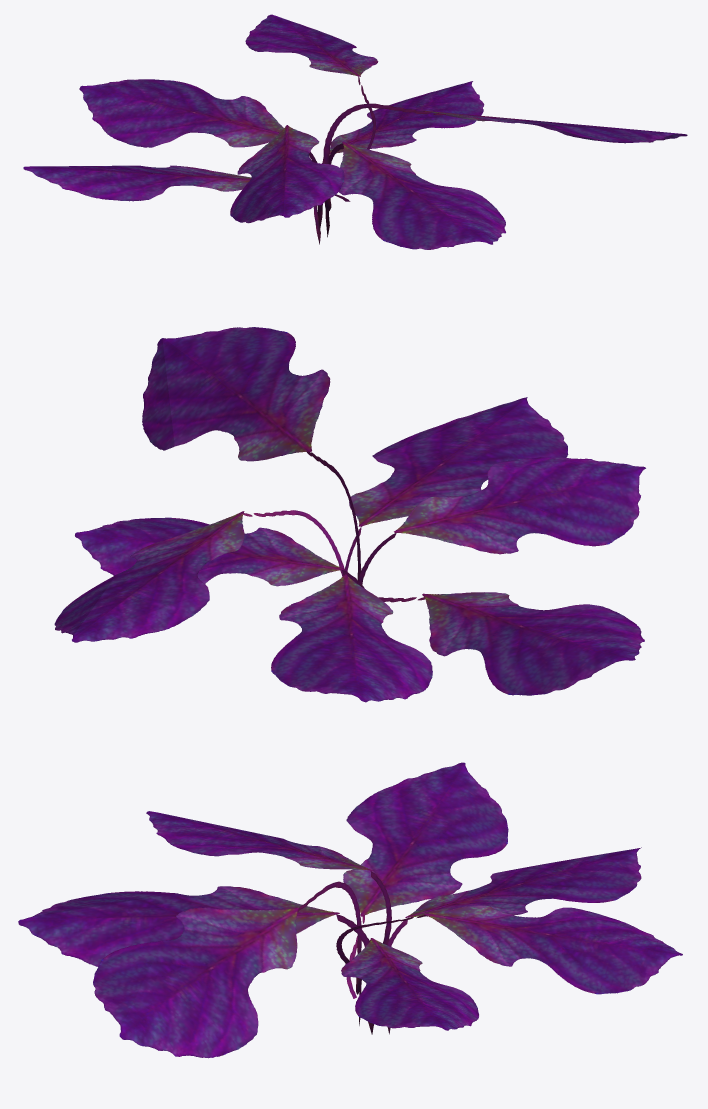
File: Row Root C5.fbx
The picture shows the model from 3 angles, top to bottom: view 1: azimuth 30°, elevation 25°; view 2: azimuth 150°, elevation 25°; view 3: azimuth 270°, elevation 25°; orthographic projection. The views are drawn at different scales.
Visible parts, largest first — view 1: Row Root C5; view 2: Row Root C5; view 3: Row Root C5.
Part boxes in pixels (left/top/right/bottom): Row Root C5: left=23, top=14, right=687, bottom=249; Row Root C5: left=54, top=327, right=645, bottom=702; Row Root C5: left=18, top=762, right=682, bottom=1058.
Bounding box in the file's own units: 206 × 59.62 × 186.
